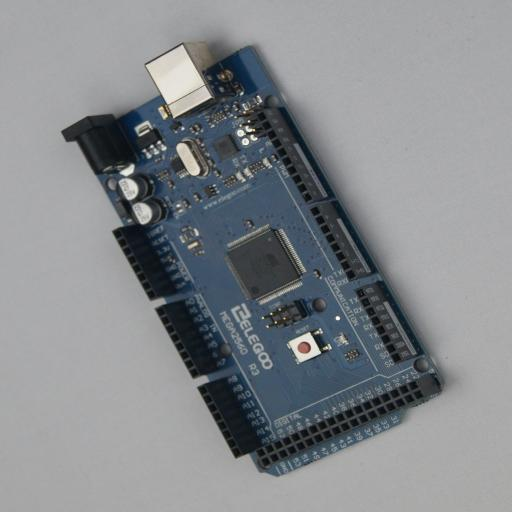Arduino Mega 2560 -Blue-: (61, 41, 447, 477)
